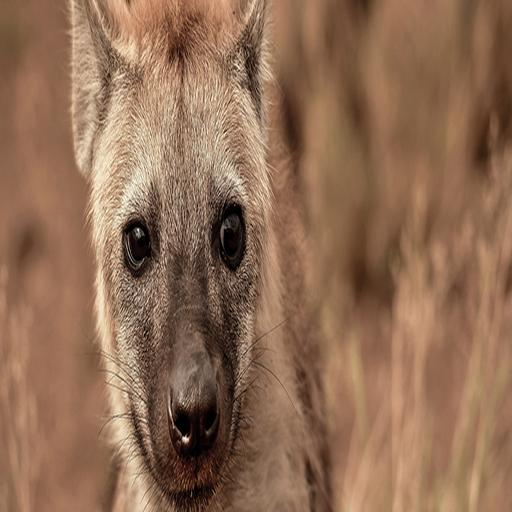Hyena: (67, 0, 355, 512)
